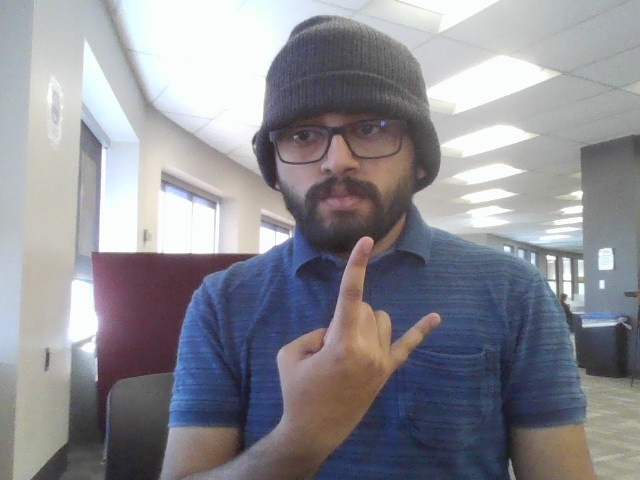help: (266, 234, 467, 462)
